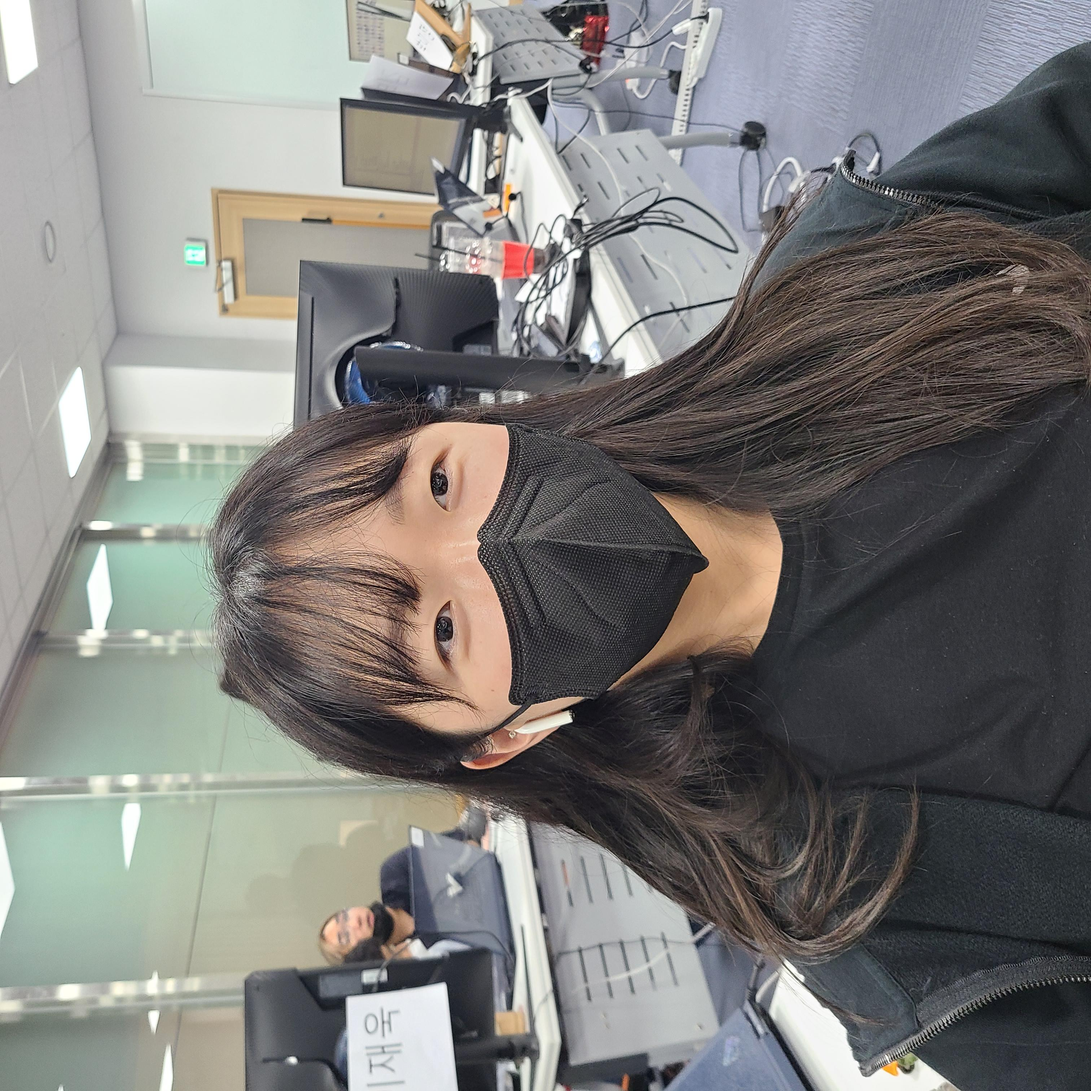earphone: (347, 507, 389, 584)
